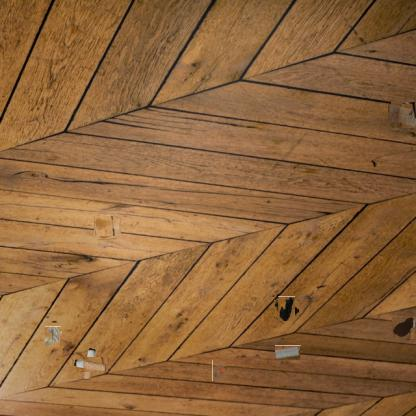dirty: (388, 102, 416, 130), (77, 352, 103, 378), (276, 298, 297, 320), (276, 345, 302, 360), (45, 326, 61, 347), (212, 359, 227, 381)
liquid: (392, 316, 416, 340), (95, 214, 119, 238)
